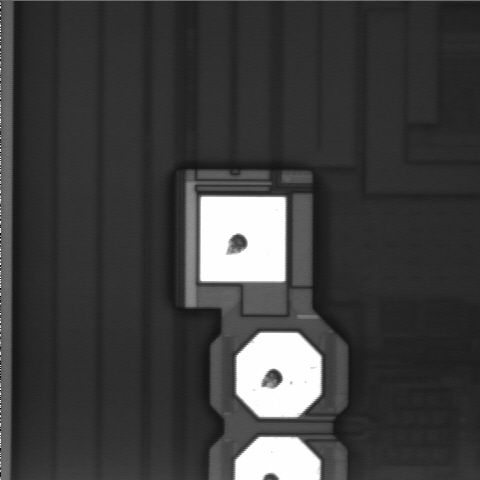pad: (200, 196, 286, 282), (236, 333, 321, 417)
